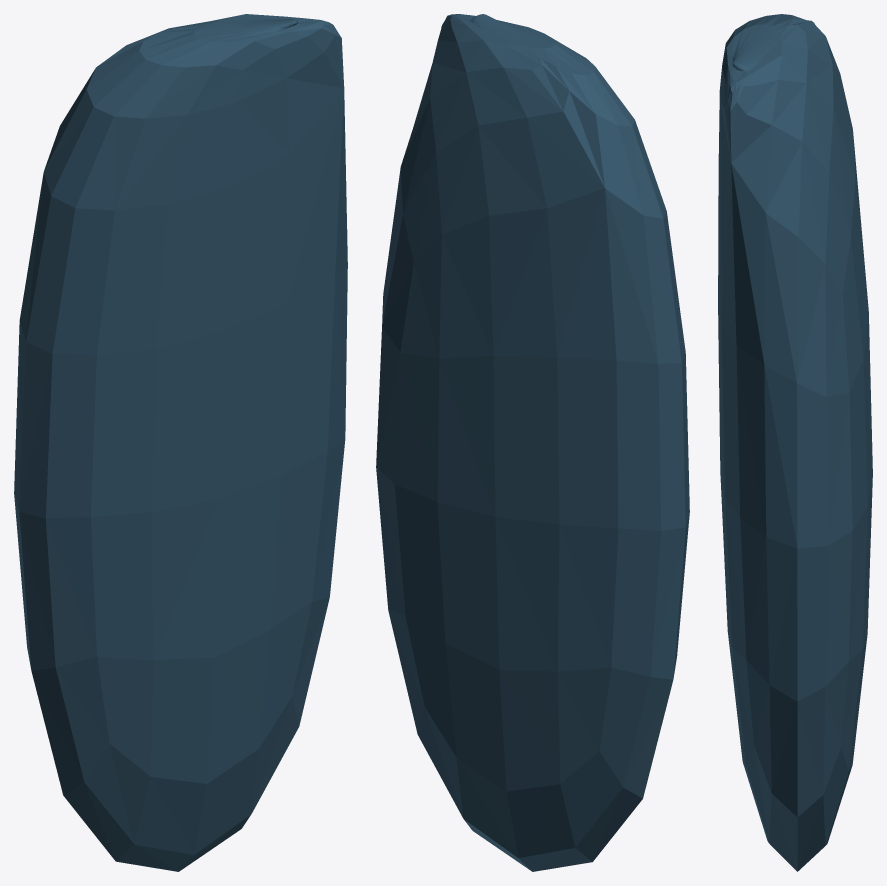
3 views of the same model, side by side, from view 1: azimuth 30°, elevation 25°; view 2: azimuth 150°, elevation 25°; view 3: azimuth 270°, elevation 25° (orthographic). The views are drawn at different scales.
Visible parts, largest first — view 1: 106_Cube.445; view 2: 106_Cube.445; view 3: 106_Cube.445.
Boxes of the visible parts, x1=… form: 106_Cube.445: x1=14, y1=14, x2=347, y2=871; 106_Cube.445: x1=376, y1=14, x2=689, y2=871; 106_Cube.445: x1=718, y1=14, x2=872, y2=871.
Bounding box in the file's own units: 4.46 × 11.36 × 1.88.
